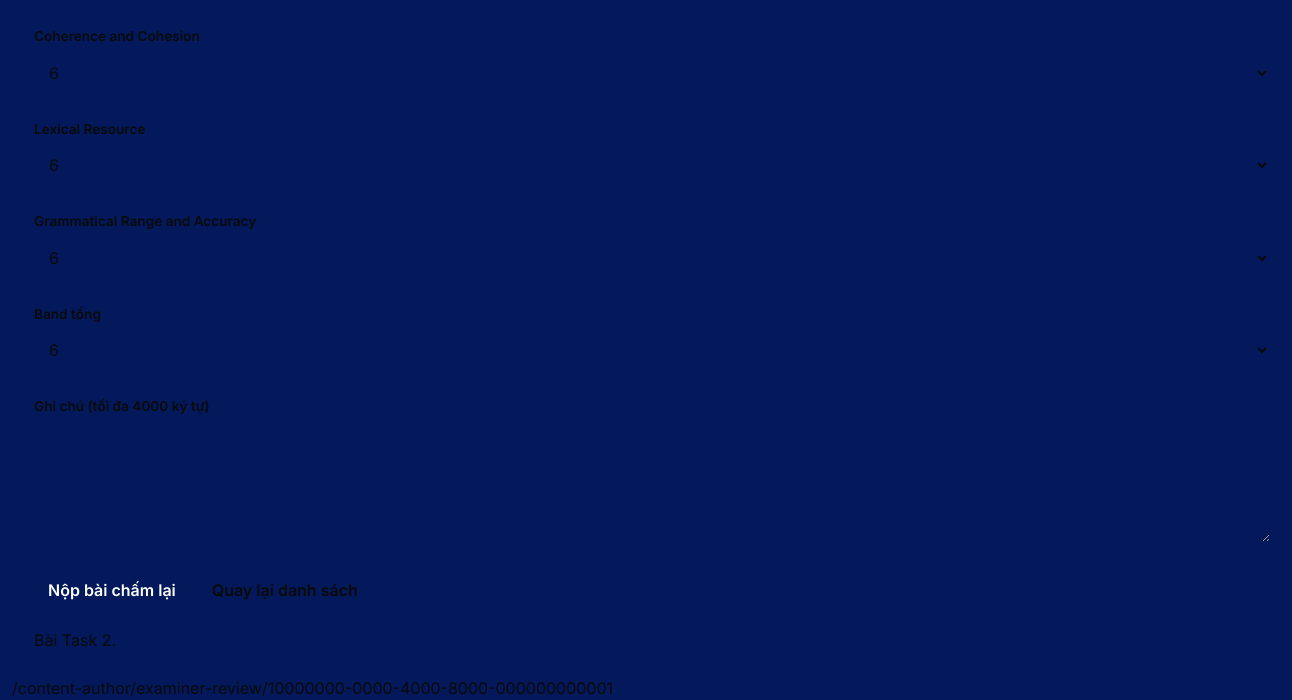
Scenario: ReviewEssayPage › shows the server message and keeps the form when the review is refused
The image size is (1292, 700).
(page scrolled)
In the text box labelled "Ghi chú (tối đa 4000 ký tự)": (652, 482) [34,422,1270,542], type "Giữ lại"
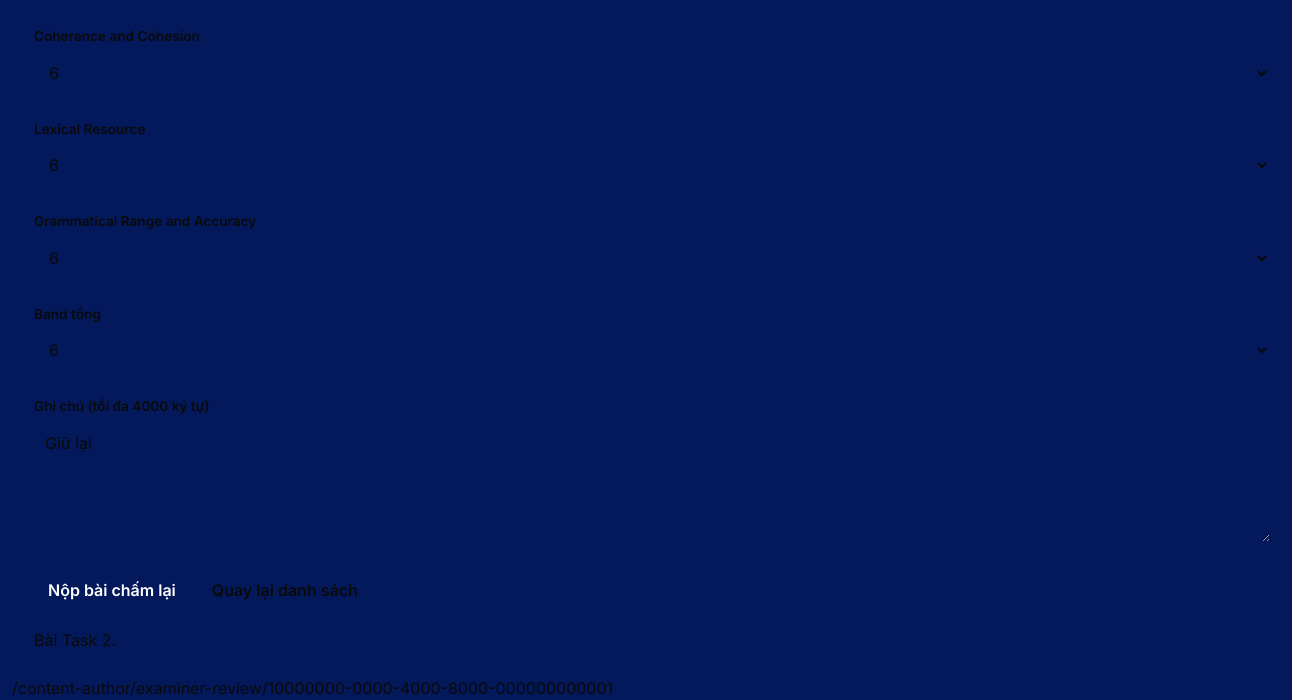
Click the button "Nộp bài chấm lại": (112, 590) [34,568,190,612]
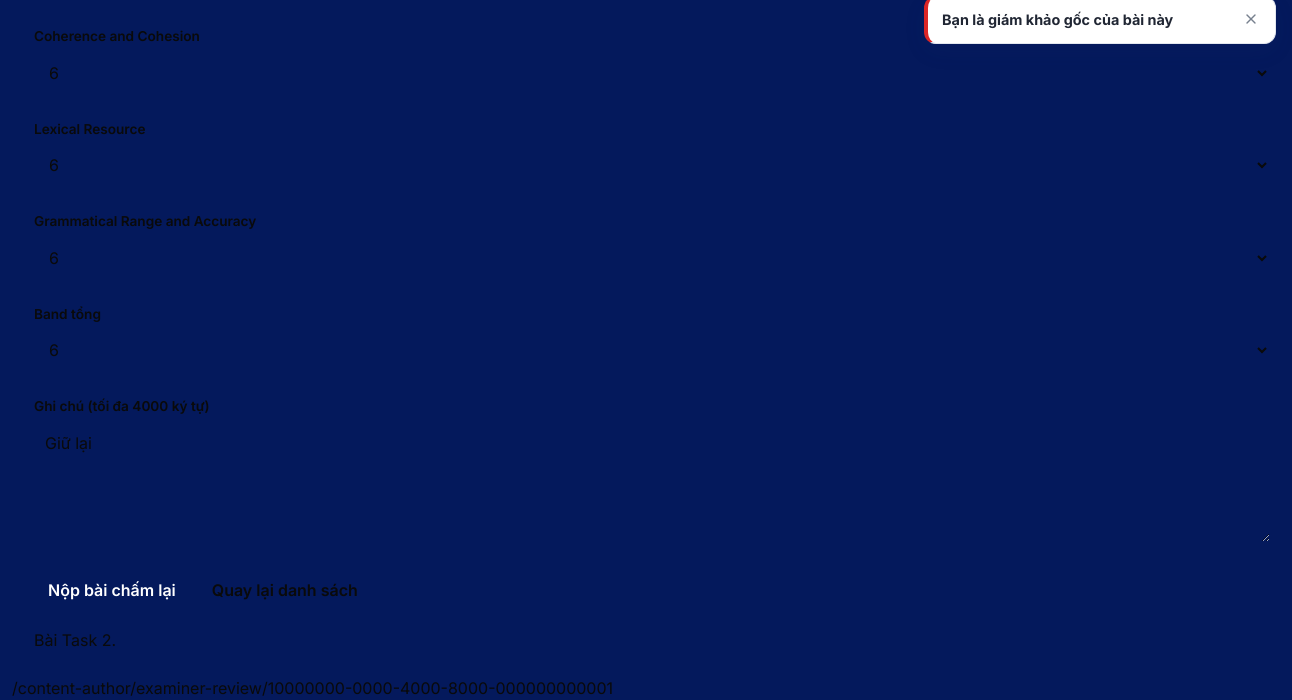
Now the message reads "Bạn là giám khảo gốc của bài này", box [942,11,1173,28]
